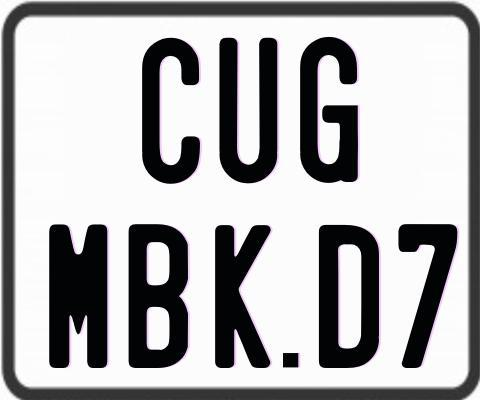7: (396, 221, 455, 369)
B: (127, 224, 186, 369)
C: (140, 36, 199, 182)
D: (318, 222, 380, 367)
G: (300, 35, 362, 185)
K: (213, 222, 273, 369)
M: (49, 222, 108, 370)
U: (218, 36, 282, 183)
